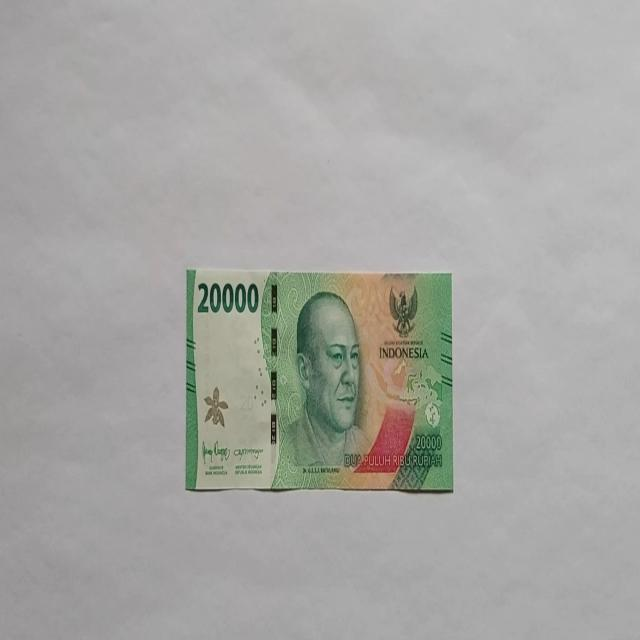dua puluh ribu rupiah: (184, 266, 453, 492)
